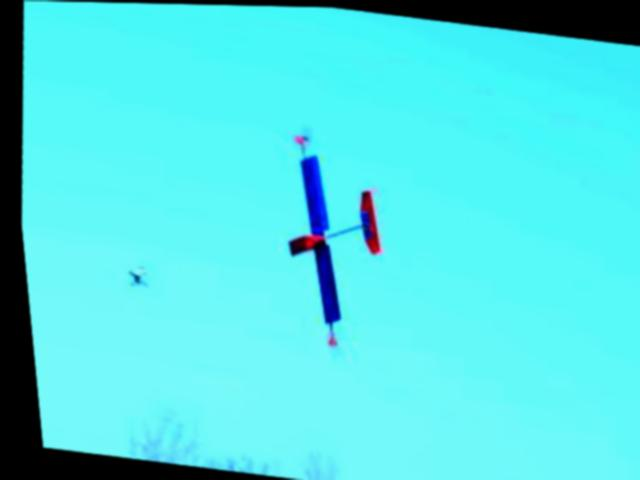uav: (266, 145, 396, 332)
